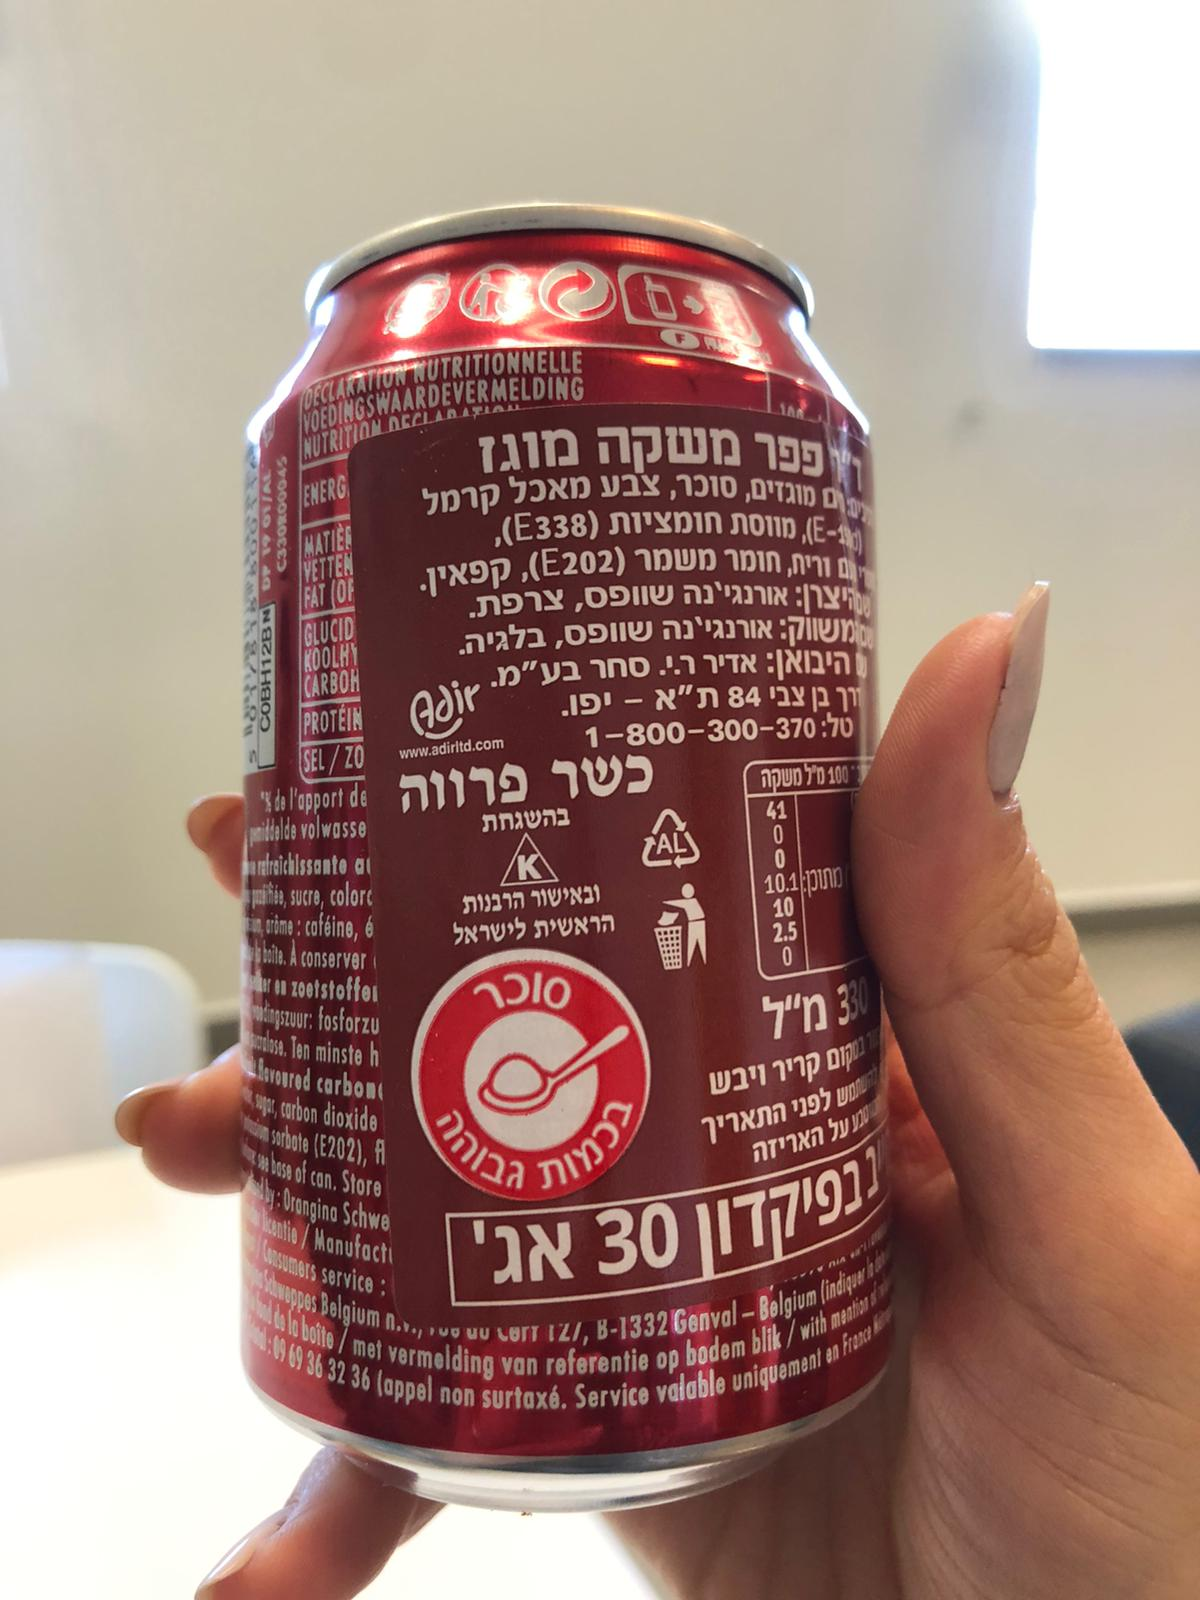sugar: (407, 947, 654, 1203)
